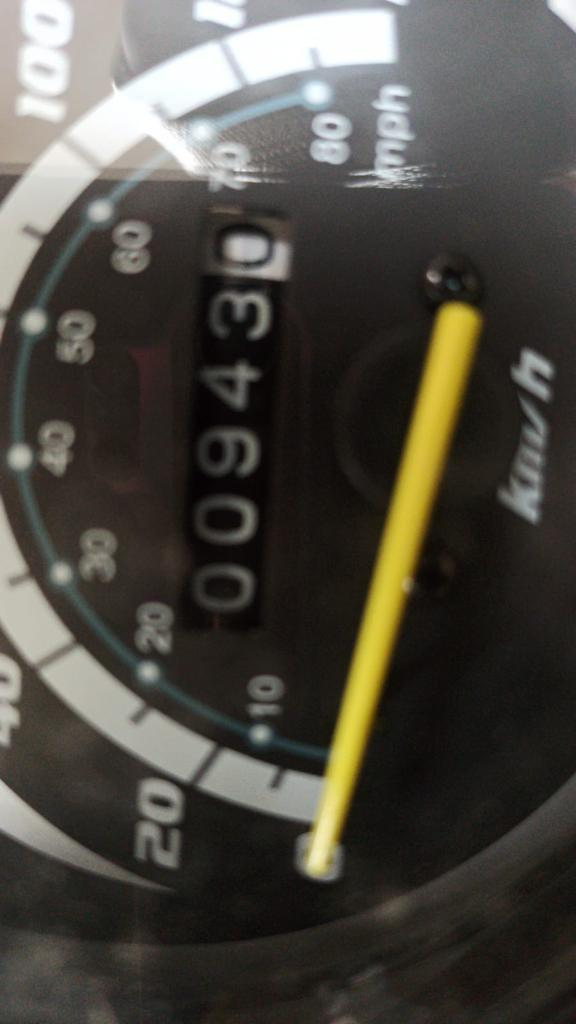0: (187, 491, 267, 547), (209, 222, 283, 273), (189, 563, 259, 614)
3: (203, 285, 279, 342)
4: (194, 359, 267, 409)
9: (191, 422, 265, 478)
odometer: (167, 194, 301, 637)
